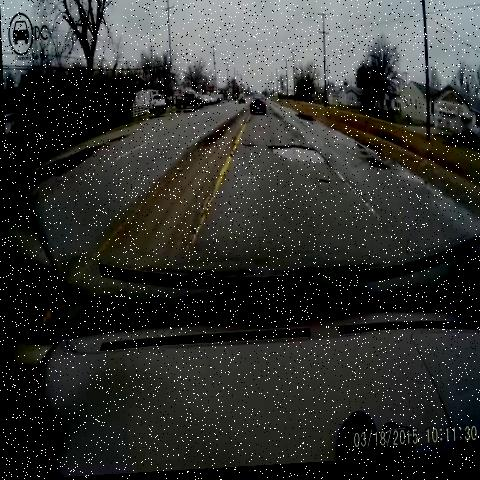pothole: (263, 128, 334, 176), (224, 124, 258, 167), (311, 179, 334, 193)
